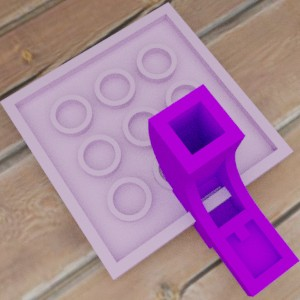lego: (0, 2, 293, 280), (147, 83, 299, 297)
